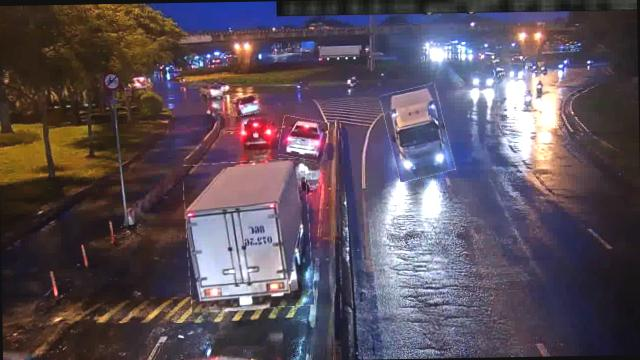Car: (279, 116, 328, 160), (230, 95, 259, 116), (207, 86, 226, 98)
Truck: (184, 158, 312, 310), (384, 85, 451, 180)
